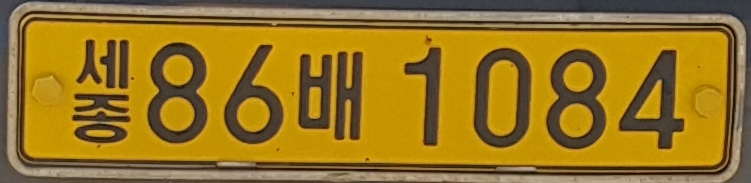0: (472, 44, 532, 149)
1: (391, 46, 458, 149)
4: (617, 47, 685, 149)
6: (222, 43, 285, 145)
8: (145, 41, 208, 145), (545, 48, 607, 151)
배: (297, 48, 363, 142)
세종_V: (70, 35, 131, 143)
